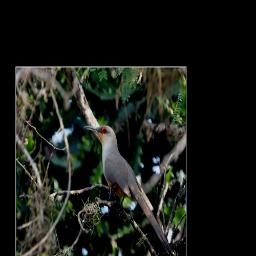Cuckoo: (83, 123, 176, 256)
